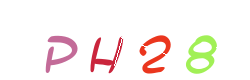2: (93, 0, 173, 80)
8: (161, 0, 241, 80)
H: (83, 0, 163, 80)
P: (38, 0, 118, 80)
